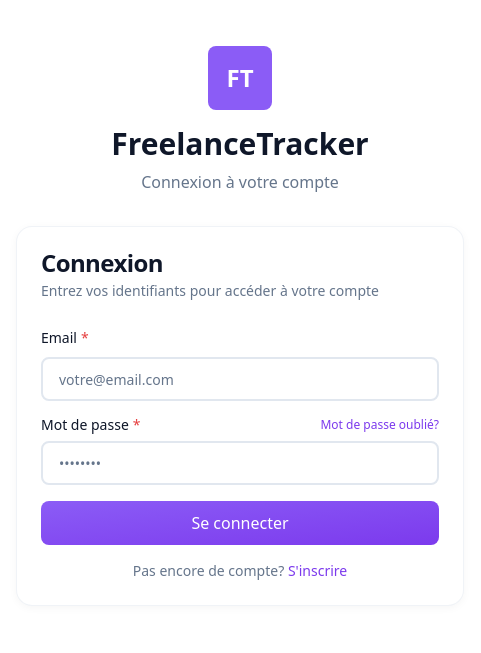
Login page › shows authentication error when Supabase rejects request
Type "user@example.com" into the field labelled "Email*" at (240,379), box [41,357,439,401]
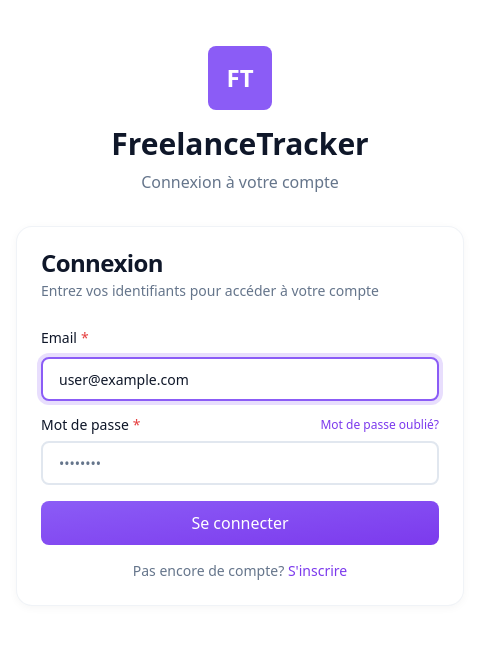
Type "wrongpassword" into the password field labelled "Mot de passe*" at (240,463), box [41,441,439,485]
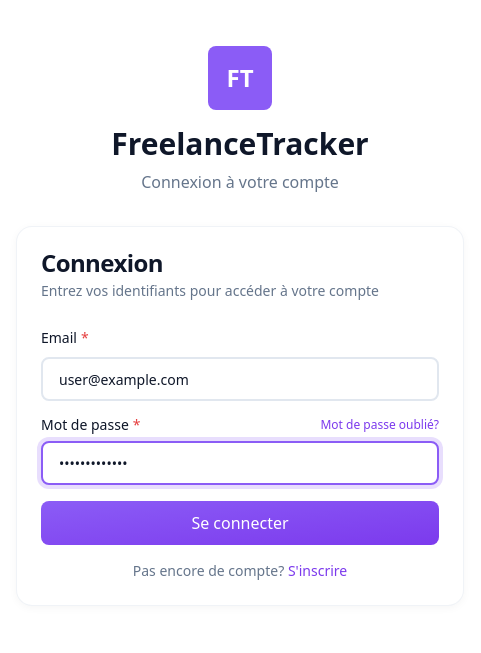
Click the button "Se connecter" at (240,523), box [41,501,439,545]
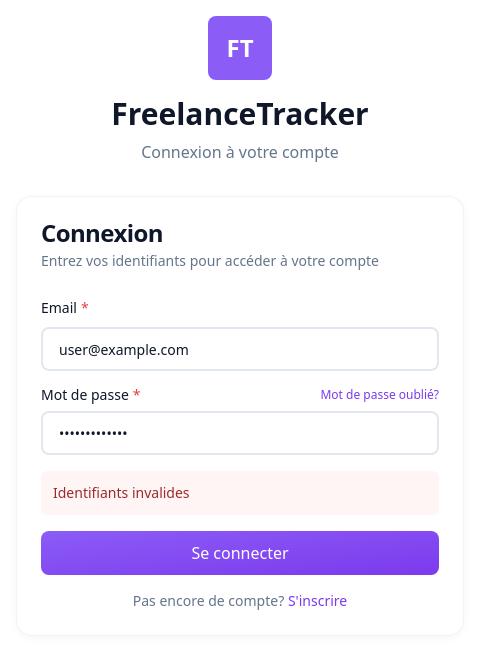
Now the text "Identifiants invalides" is shown, box [41,471,439,515]
